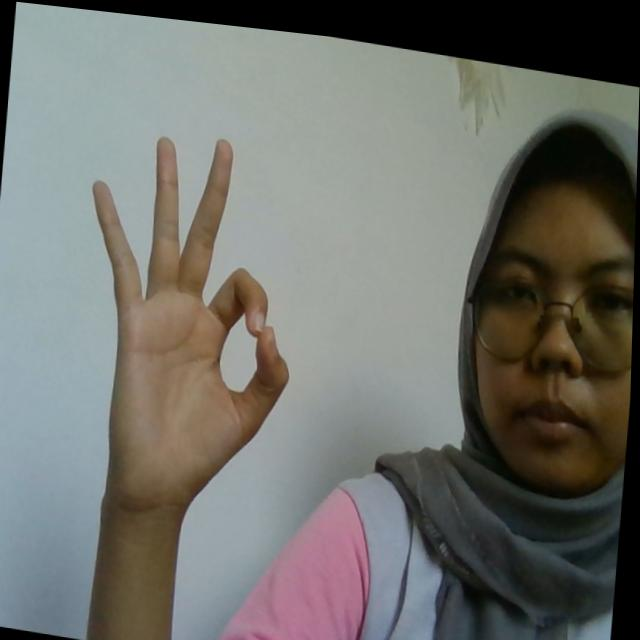F: (71, 112, 310, 519)
